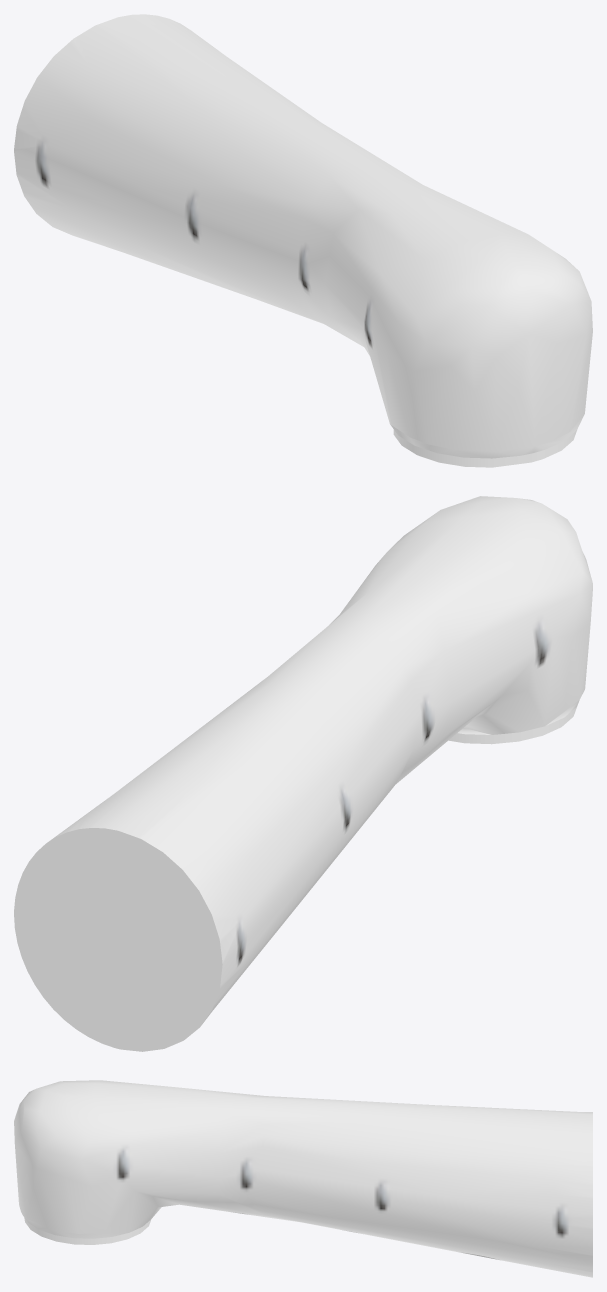
File: link_forearm.3obj.obj.glb
The picture shows the model from 3 angles, top to bottom: view 1: azimuth 30°, elevation 25°; view 2: azimuth 150°, elevation 25°; view 3: azimuth 270°, elevation 25°; orthographic projection. The views are drawn at different scales.
Parts seen in each view (by area): view 1: link_forearm.3obj.obj; view 2: link_forearm.3obj.obj; view 3: link_forearm.3obj.obj.
Boxes of the visible parts, <box> form: link_forearm.3obj.obj: <box>14,14,592,467</box>; link_forearm.3obj.obj: <box>14,496,592,1051</box>; link_forearm.3obj.obj: <box>14,1080,592,1277</box>.
Bounding box in the file's own units: 0.09 × 0.1082 × 0.3145.
1 material, 1 textured.
